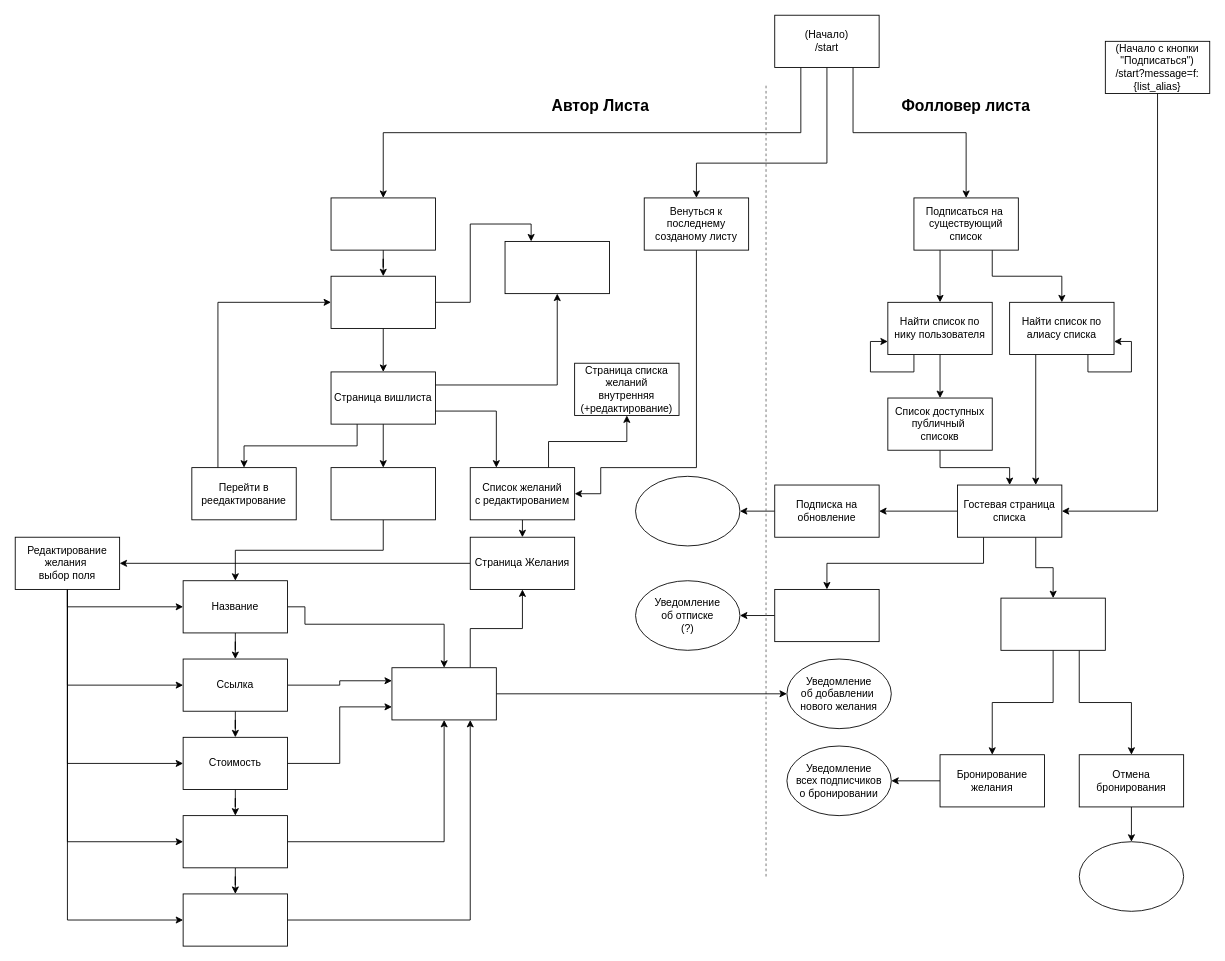
Image size: 1225x961. Some labels were removed from this diagram. The box of each missing label's shape, as (x1, y1, x2, y2) in pixels:
Добавить желание: (330, 467, 435, 520)
Картинка: (182, 893, 288, 946)
Описание: (182, 815, 288, 868)
Отписка от обновлениея: (774, 589, 879, 642)
Перейти в список всех листов: (504, 241, 609, 294)
Просмотр страницы конкретного желания: (1000, 597, 1105, 650)
Публикация Желания в списке: (391, 667, 496, 720)
Режим редактирования: (330, 275, 435, 328)
Создать вишлист: (330, 197, 435, 250)
Уведомление всех подписчиков о том, что пункт свободен: (1078, 841, 1184, 911)
Уведомление о новой подписке: (635, 475, 740, 546)
